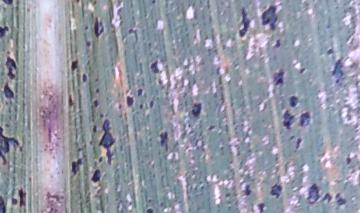tarspot: (1, 125, 24, 167), (99, 119, 114, 169), (259, 3, 281, 31), (328, 55, 346, 85), (236, 6, 252, 39), (4, 49, 18, 79), (281, 109, 295, 132), (306, 183, 321, 204), (158, 130, 171, 152), (92, 15, 104, 38), (298, 110, 311, 131), (69, 157, 84, 175), (269, 182, 283, 201), (271, 68, 285, 87), (1, 80, 15, 99), (126, 27, 140, 46), (17, 184, 27, 208), (148, 59, 162, 76), (334, 191, 347, 208), (1, 24, 12, 39), (191, 102, 201, 118), (125, 94, 135, 110), (90, 168, 100, 184), (320, 192, 332, 205), (293, 137, 303, 152), (287, 95, 299, 107), (66, 91, 74, 109), (1, 194, 8, 213), (69, 58, 78, 72), (243, 183, 252, 196), (96, 153, 104, 167), (324, 47, 335, 57), (135, 87, 144, 99), (272, 38, 281, 50), (206, 123, 216, 133), (83, 38, 92, 49), (256, 201, 264, 213), (344, 155, 353, 165), (297, 67, 307, 76), (89, 124, 97, 135), (92, 98, 100, 108), (143, 206, 154, 213), (81, 72, 87, 84), (82, 24, 91, 32), (1, 1, 15, 6), (10, 197, 18, 205), (138, 103, 145, 111), (3, 122, 11, 129), (94, 87, 101, 95), (117, 101, 123, 110), (148, 99, 152, 111), (74, 1, 81, 6), (25, 6, 30, 13), (150, 1, 156, 5)
